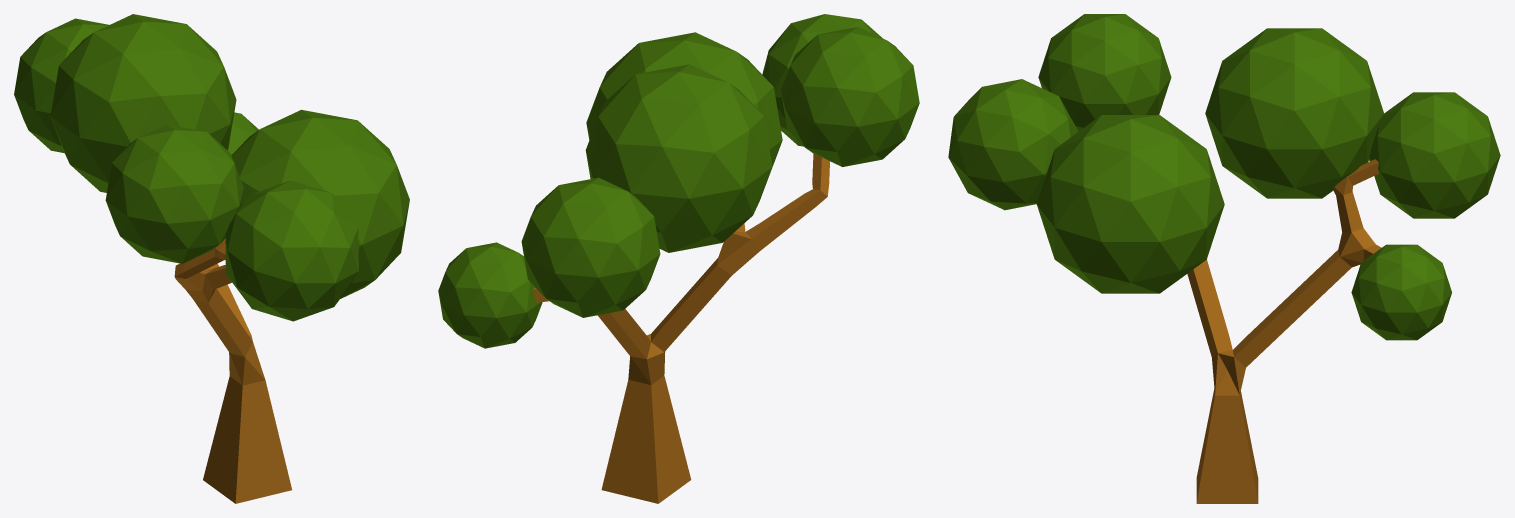
Rendered from arvore1.glb.
The picture shows the model from 3 angles, left to right: view 1: azimuth 30°, elevation 25°; view 2: azimuth 150°, elevation 25°; view 3: azimuth 270°, elevation 25°; orthographic projection. The views are drawn at different scales.
Parts seen in each view (by area): view 1: Icosphere.003, Icosphere.002, Icosphere, Icosphere.001, Cube, Icosphere.004, Icosphere.005; view 2: Icosphere.003, Cube, Icosphere.004, Icosphere.001, Icosphere.005, Icosphere.002, Icosphere; view 3: Icosphere.002, Icosphere.003, Cube, Icosphere.004, Icosphere, Icosphere.001, Icosphere.005.
Boxes of the visible parts, x1,y1,x2,y2 form: Icosphere.003: (50,14,236,192); Icosphere.002: (231,109,409,298); Icosphere: (225,180,358,321); Icosphere.001: (105,124,243,263); Cube: (174,239,291,503); Icosphere.004: (14,18,108,152); Icosphere.005: (228,112,258,155); Icosphere.003: (585,64,772,252); Cube: (533,153,829,503); Icosphere.004: (521,177,660,317); Icosphere.001: (781,27,919,166); Icosphere.005: (438,242,542,348); Icosphere.002: (586,32,782,166); Icosphere: (762,14,881,146); Icosphere.002: (1036,115,1224,293); Icosphere.003: (1205,28,1383,198); Cube: (1187,159,1381,503); Icosphere.004: (1369,92,1500,218); Icosphere: (948,79,1078,210); Icosphere.001: (1038,14,1171,131); Icosphere.005: (1351,244,1451,340).
Size of the model in its own units: 2.61 by 3.75 by 4.39.
